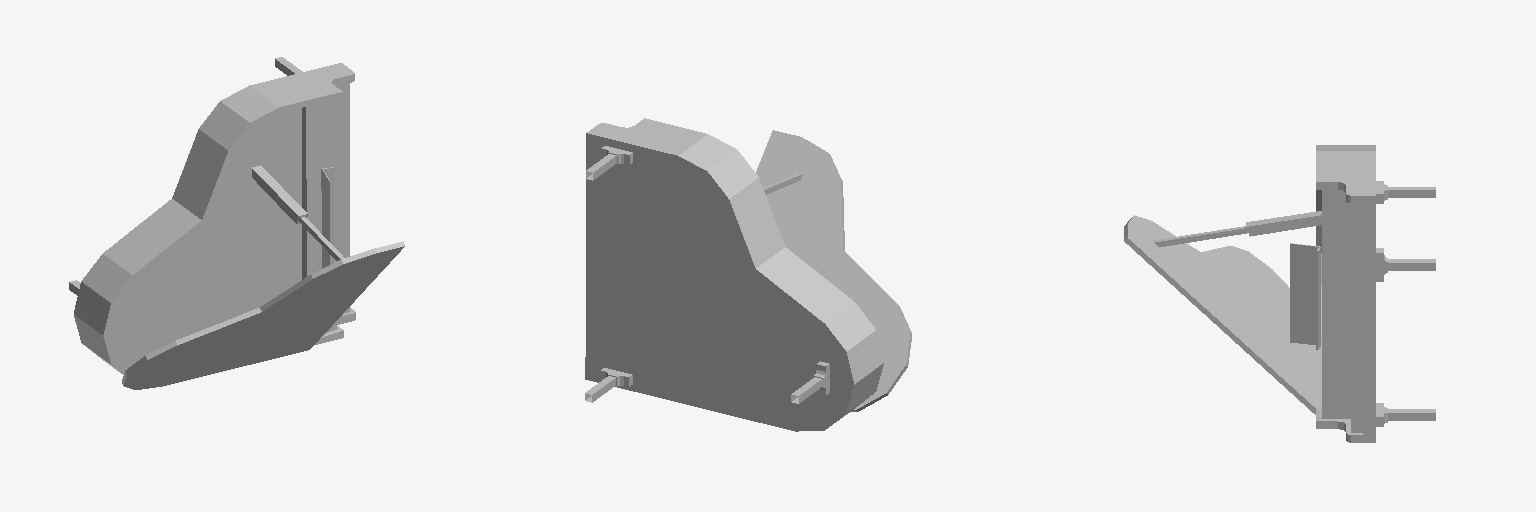
File: Piano.obj
3 views of the same model, side by side, from view 1: azimuth 30°, elevation 25°; view 2: azimuth 150°, elevation 25°; view 3: azimuth 270°, elevation 25° (orthographic).
Visible parts, largest first — view 1: Piano; view 2: Piano; view 3: Piano.
Boxes of the visible parts, x1,y1,x2,y2 form: Piano: [69, 57, 404, 389]; Piano: [585, 118, 911, 431]; Piano: [1124, 145, 1435, 442].
Size of the model in its own units: 28.52 by 25.44 by 28.68.